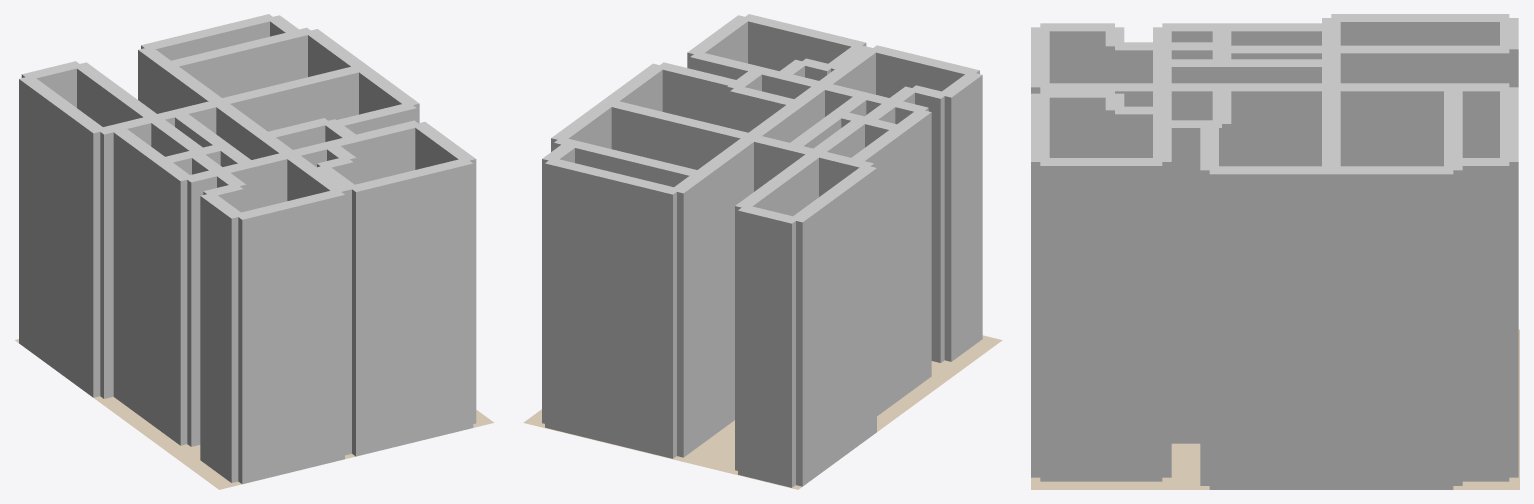
The model's file is 07527a89-7029-4442-83ca-1be5efcc0e42.glb.
The picture shows the model from 3 angles, left to right: view 1: azimuth 30°, elevation 25°; view 2: azimuth 150°, elevation 25°; view 3: azimuth 270°, elevation 25°; orthographic projection. The views are drawn at different scales.
Parts seen in each view (by area): view 1: wall_1, wall_4, wall_21, wall_14, wall_20, wall_6, wall_11, wall_5, wall_22, wall_19, wall_16, wall_2 (+10 smaller); view 2: wall_24, wall_21, wall_5, wall_25, wall_14, wall_6, wall_20, wall_19, floor, wall_9, wall_1, wall_11 (+10 smaller); view 3: wall_16, wall_2, wall_5, wall_23, wall_12, wall_19, wall_11, wall_21, wall_22, wall_24, wall_1, wall_3 (+14 smaller).
Boxes of the visible parts, x1,y1,x2,y2 form: wall_1: (349, 158, 473, 456); wall_4: (235, 189, 344, 484); wall_21: (19, 77, 102, 397); wall_14: (112, 126, 192, 445); wall_20: (96, 65, 364, 398); wall_6: (200, 192, 242, 482); wall_11: (184, 120, 421, 446); wall_5: (138, 46, 347, 454); wall_22: (164, 27, 313, 97); wall_19: (75, 62, 204, 156); wall_16: (304, 29, 419, 123); wall_2: (414, 121, 476, 423); wall_24: (545, 159, 679, 458); wall_21: (789, 165, 876, 486); wall_5: (672, 47, 878, 457); wall_25: (738, 205, 799, 487); wall_14: (847, 109, 931, 415); wall_6: (938, 73, 982, 361); wall_20: (609, 101, 874, 196); wall_19: (735, 120, 864, 470); floor: (523, 335, 1002, 489); wall_9: (912, 85, 948, 362); wall_1: (741, 14, 866, 71); wall_11: (690, 52, 928, 124); wall_16: (1209, 166, 1453, 489); wall_2: (1040, 158, 1162, 481); wall_5: (1040, 83, 1509, 166); wall_23: (1453, 158, 1509, 481); wall_12: (1162, 120, 1221, 443); wall_19: (1222, 45, 1509, 83); wall_11: (1153, 27, 1171, 477); wall_21: (1331, 14, 1509, 45); wall_22: (1444, 87, 1462, 485); wall_24: (1500, 87, 1518, 477); wall_1: (1031, 93, 1049, 477); wall_3: (1040, 89, 1114, 157).
Size of the model in its own units: 3.05 by 2.8 by 3.93.
